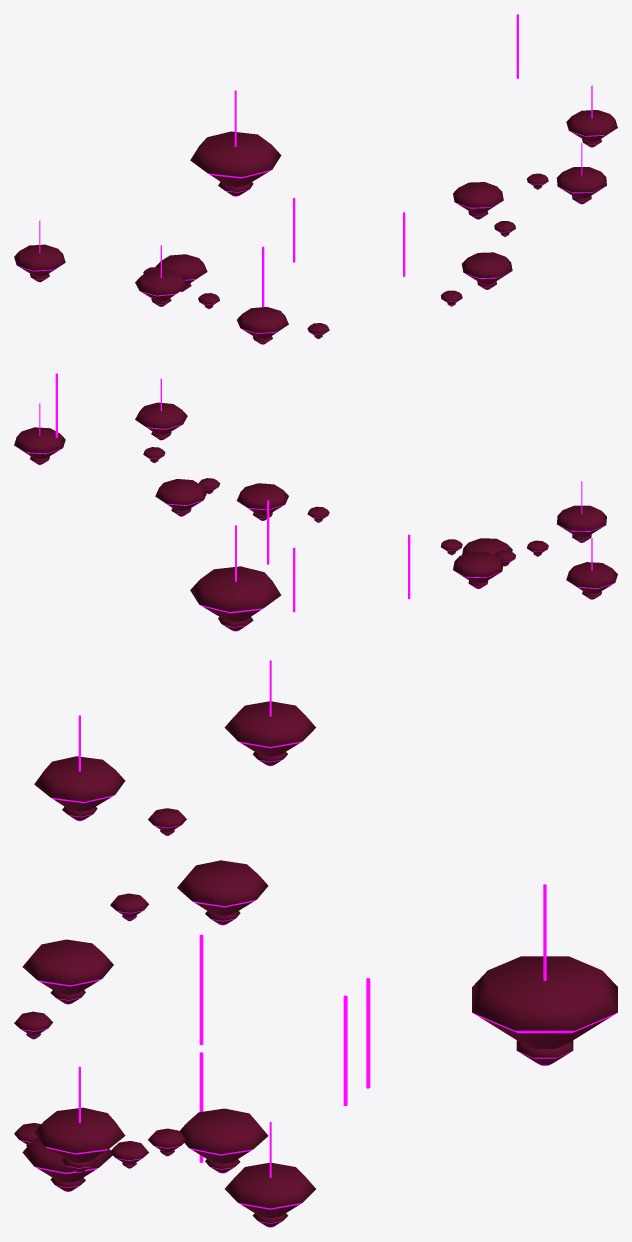
File: platforms.gltf
3 views of the same model, one above another, from view 1: azimuth 30°, elevation 25°; view 2: azimuth 150°, elevation 25°; view 3: azimuth 270°, elevation 25° (orthographic). The views are drawn at different scales.
Visible parts, largest first — view 1: platforms; view 2: platforms; view 3: platforms.
Boxes of the visible parts, x1=… form: platforms: x1=14, y1=14, x2=617, y2=344; platforms: x1=14, y1=373, x2=617, y2=631; platforms: x1=14, y1=660, x2=617, y2=1227.
Size of what is drawn, in the model's own units: 66.09 by 19.66 by 33.72.
